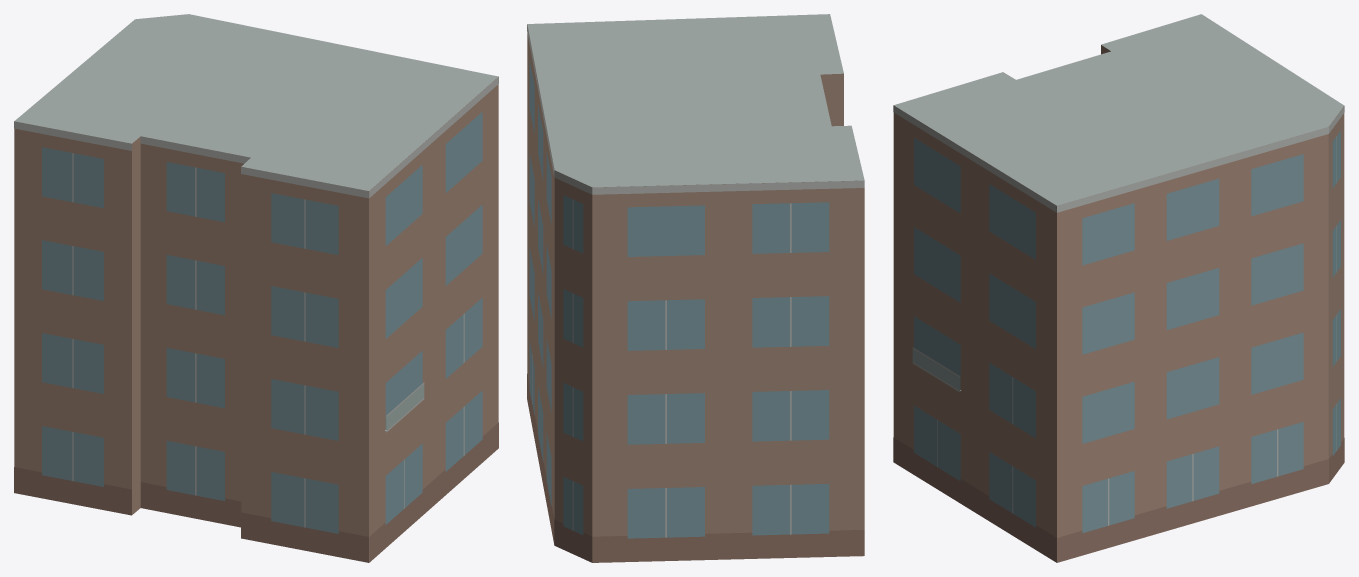
File: survey-upis-32758891.glb
The picture shows the model from 3 angles, left to right: view 1: azimuth 30°, elevation 25°; view 2: azimuth 150°, elevation 25°; view 3: azimuth 270°, elevation 25°; orthographic projection. The views are drawn at different scales.
Visible parts, largest first — view 1: survey-upis-32758891.tmp; view 2: survey-upis-32758891.tmp; view 3: survey-upis-32758891.tmp.
Part boxes in pixels (<box>): survey-upis-32758891.tmp: <box>14,14,498,562</box>; survey-upis-32758891.tmp: <box>527,14,864,562</box>; survey-upis-32758891.tmp: <box>893,14,1344,562</box>.
Size of the model in its own units: 14.3 by 12.4 by 14.2.
